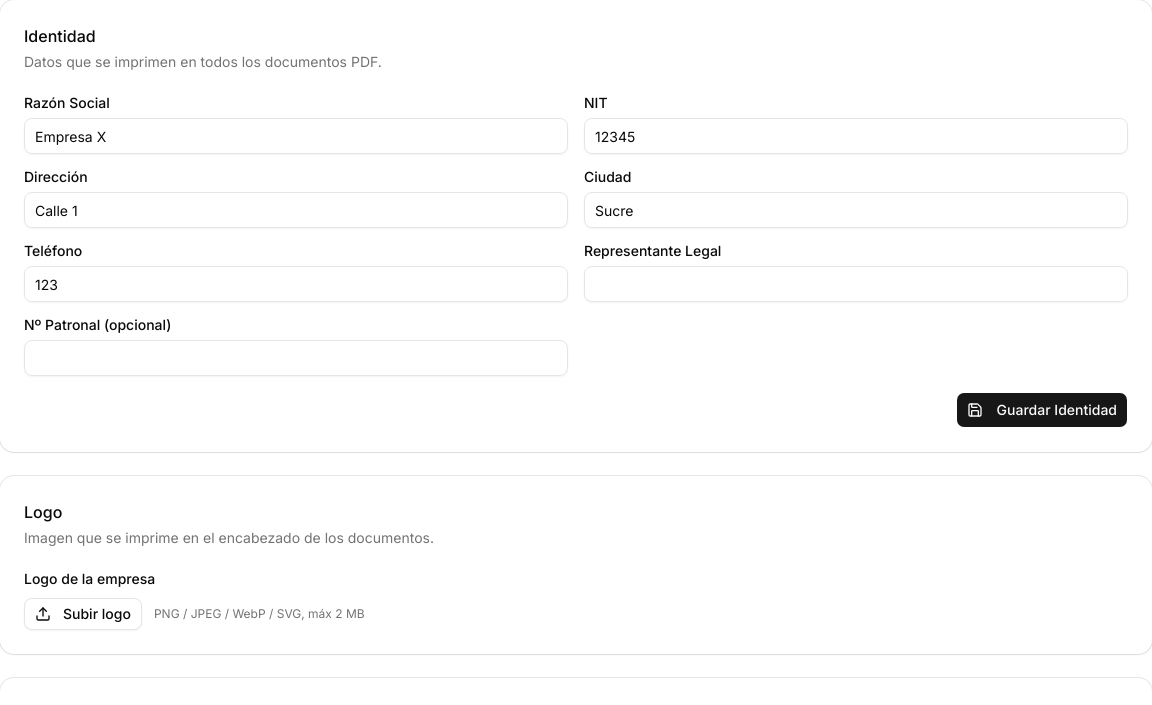
Test: CompanyProfileForm — Identity save › en 400 con fieldErrors: renderiza el error bajo el input correcto
The image size is (1152, 705).
Click the button with test id "identity-save": (1042, 410) left=956, top=392, right=1128, bottom=428
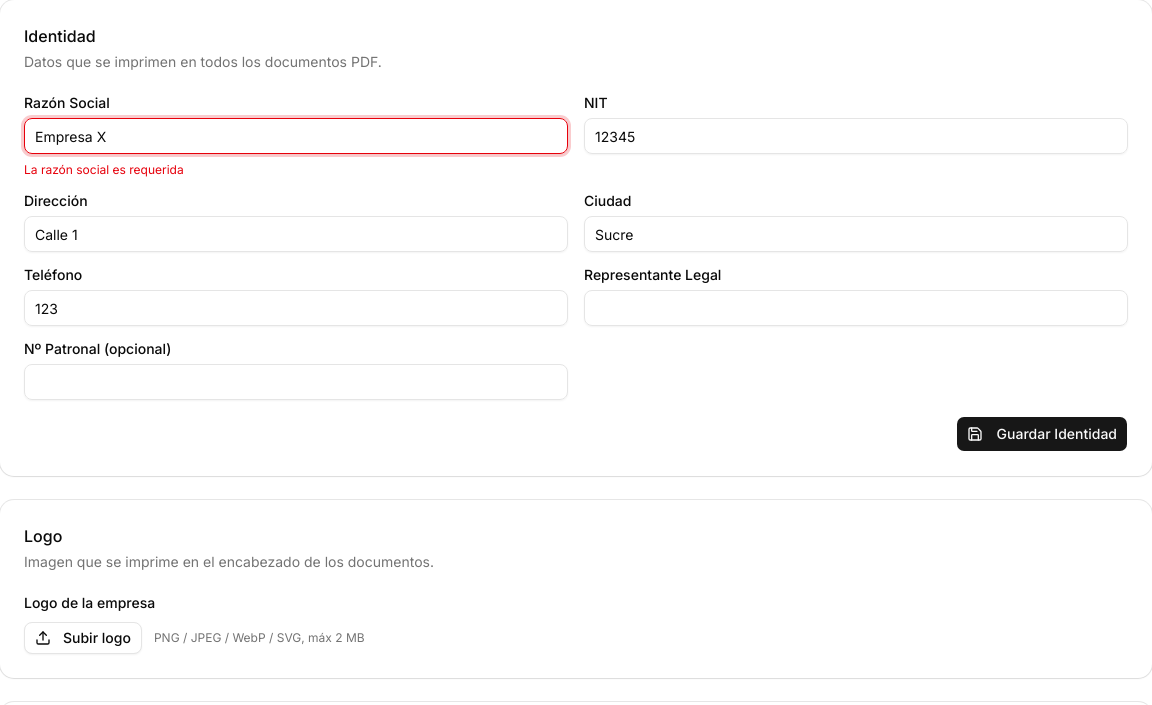
Expected: the text with test id "identity-razonSocial-error" reads "La razón social es requerida", left=24, top=162, right=184, bottom=177
